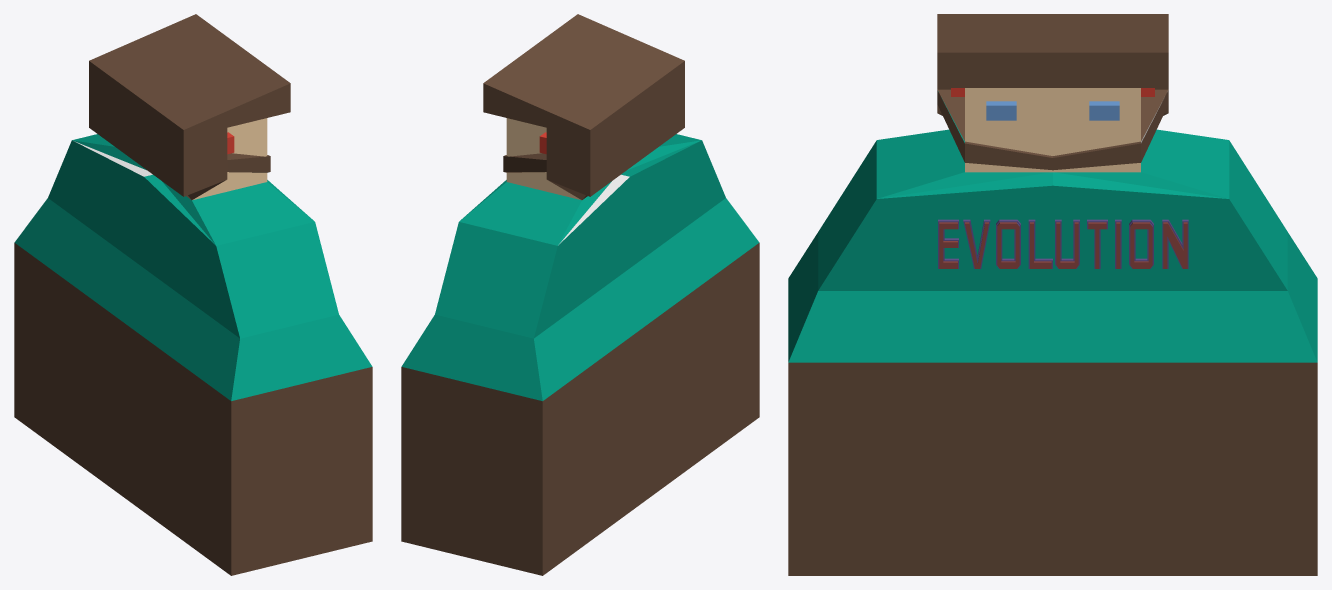
Rendered from esquivar-darwin.fbx.
3 views of the same model, side by side, from view 1: azimuth 30°, elevation 25°; view 2: azimuth 150°, elevation 25°; view 3: azimuth 270°, elevation 25° (orthographic). The views are drawn at different scales.
Parts seen in each view (by area): view 1: Component_1_2, Component_1_1; view 2: Component_1_1, Component_1_2; view 3: Component_1_2, Component_1_1, Model.
Boxes of the visible parts, x1=… form: Component_1_2: x1=123, y1=48, x2=372, y2=575; Component_1_1: x1=14, y1=14, x2=242, y2=496; Component_1_1: x1=401, y1=48, x2=650, y2=575; Component_1_2: x1=531, y1=14, x2=759, y2=496; Component_1_2: x1=788, y1=14, x2=1052, y2=575; Component_1_1: x1=1053, y1=14, x2=1317, y2=575; Model: x1=938, y1=219, x2=1188, y2=268.
Size of the model in its own units: 60 by 170 by 159.
